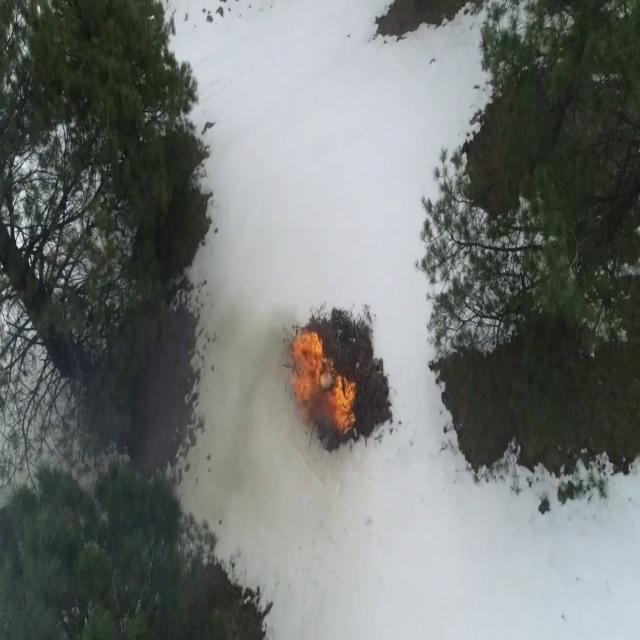fire: (293, 326, 322, 412), (327, 372, 358, 438)
